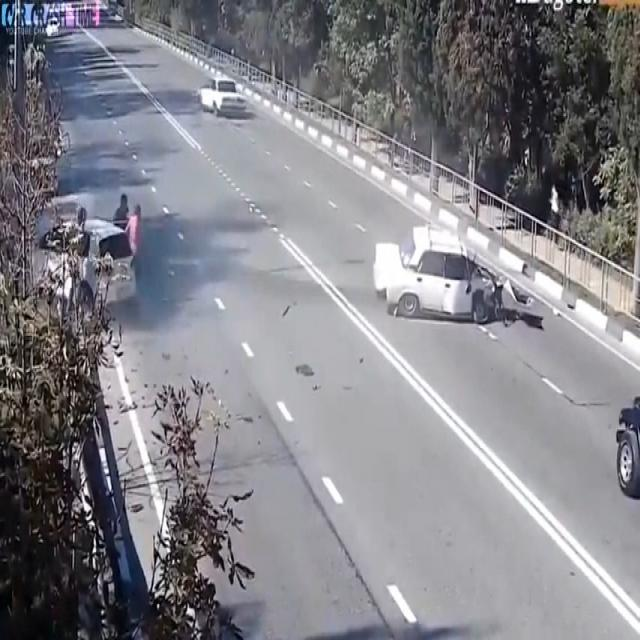Accident: (363, 184, 494, 340), (16, 172, 140, 327)
